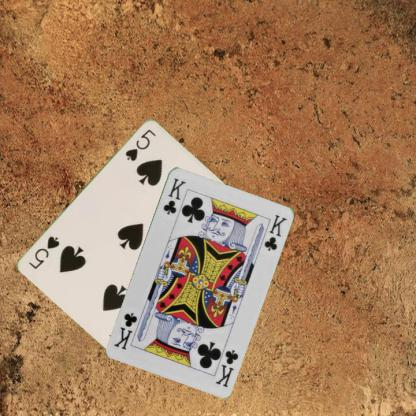5s: (123, 126, 157, 162)
Kc: (212, 347, 240, 388), (160, 175, 187, 216)
